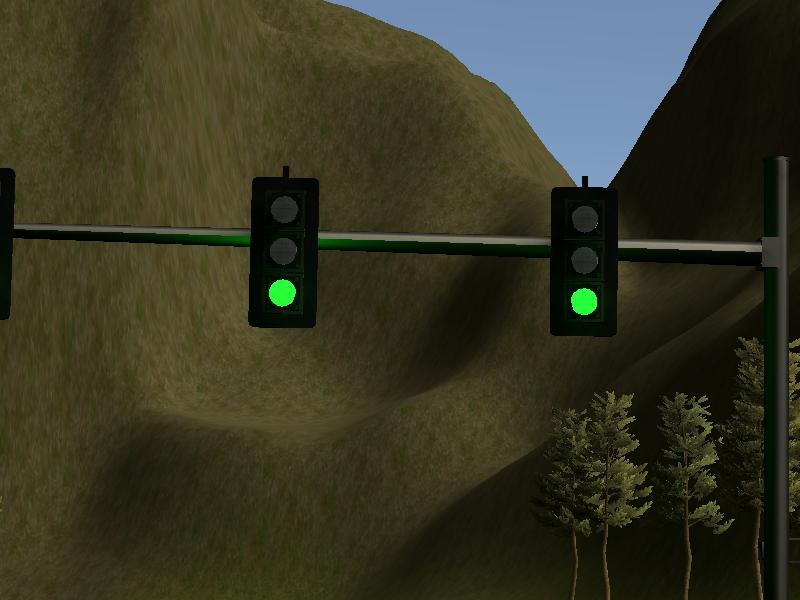Green: (249, 174, 322, 330), (547, 185, 619, 337)
